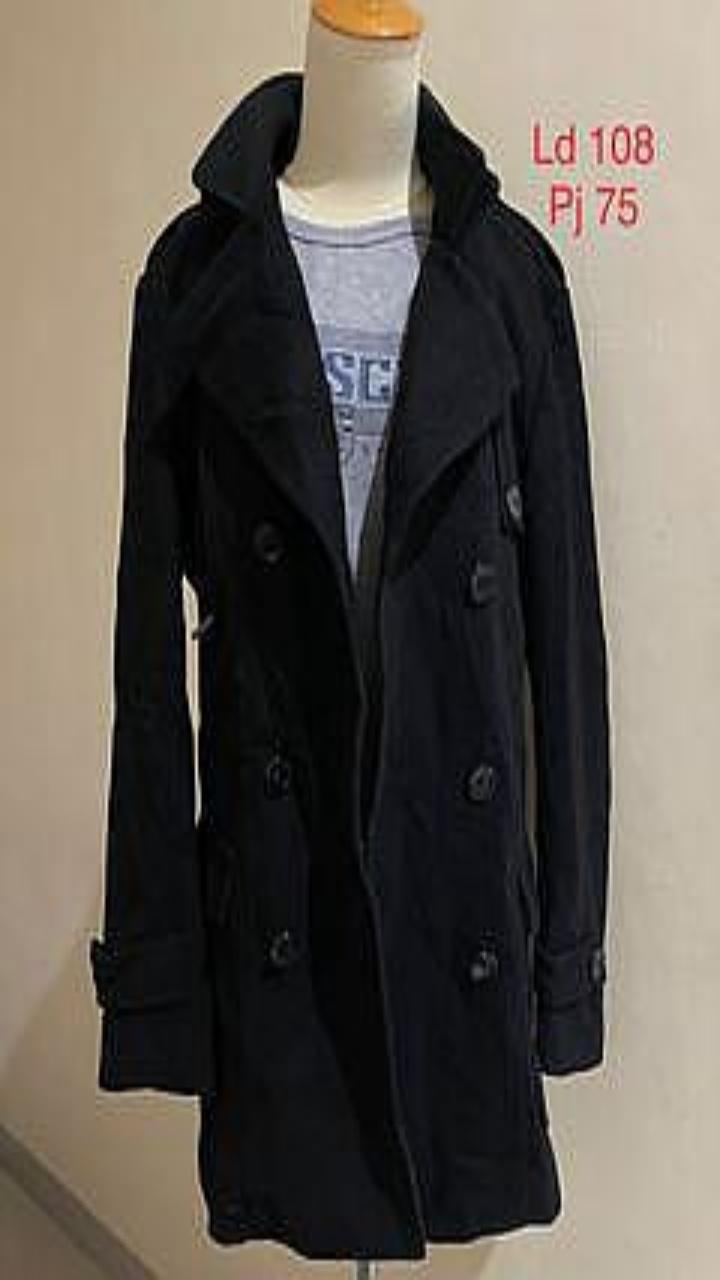Coat: (90, 71, 609, 1259)
T-Shirt: (281, 199, 430, 671)
